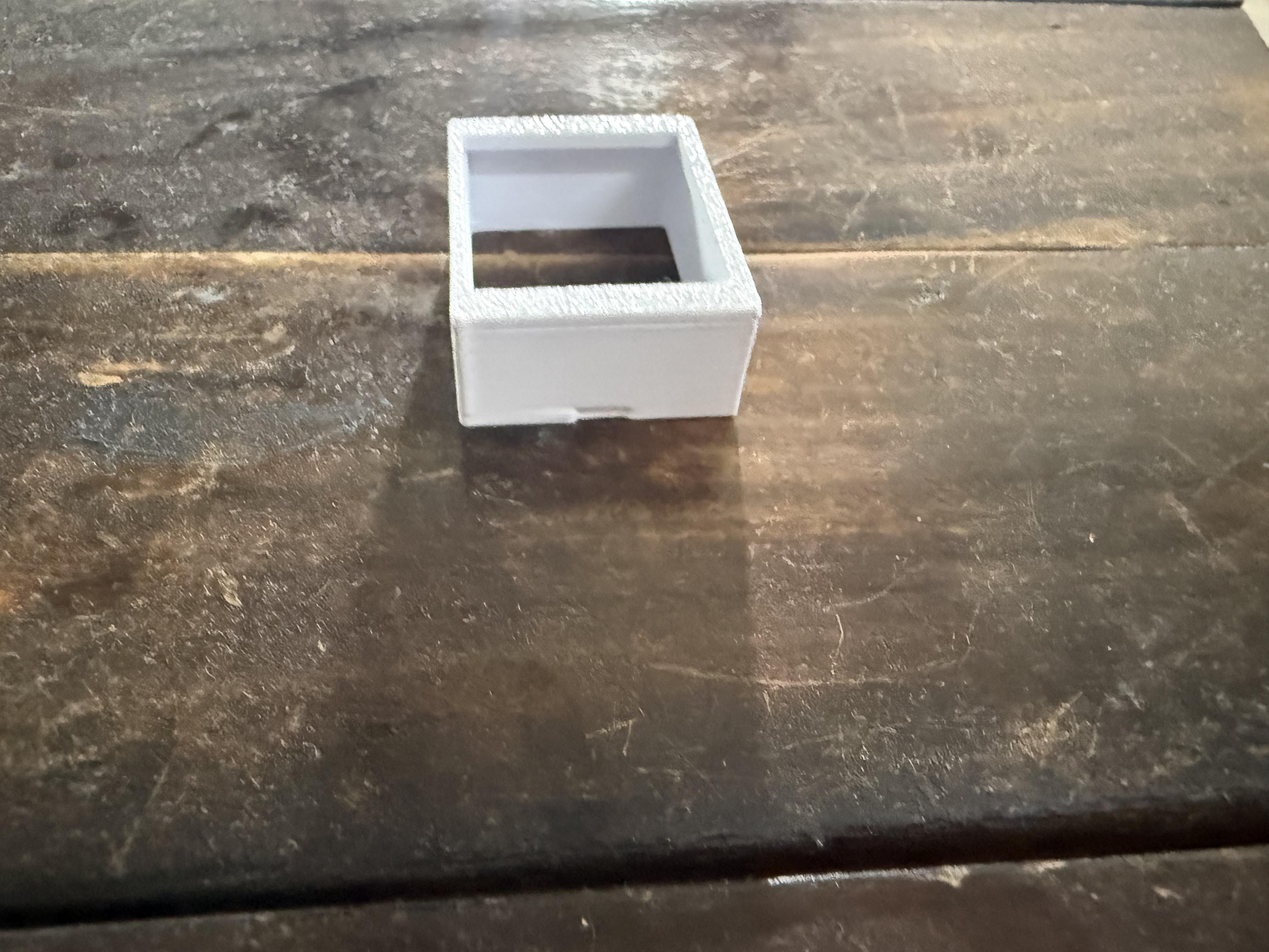enclosure: (445, 113, 763, 428)
